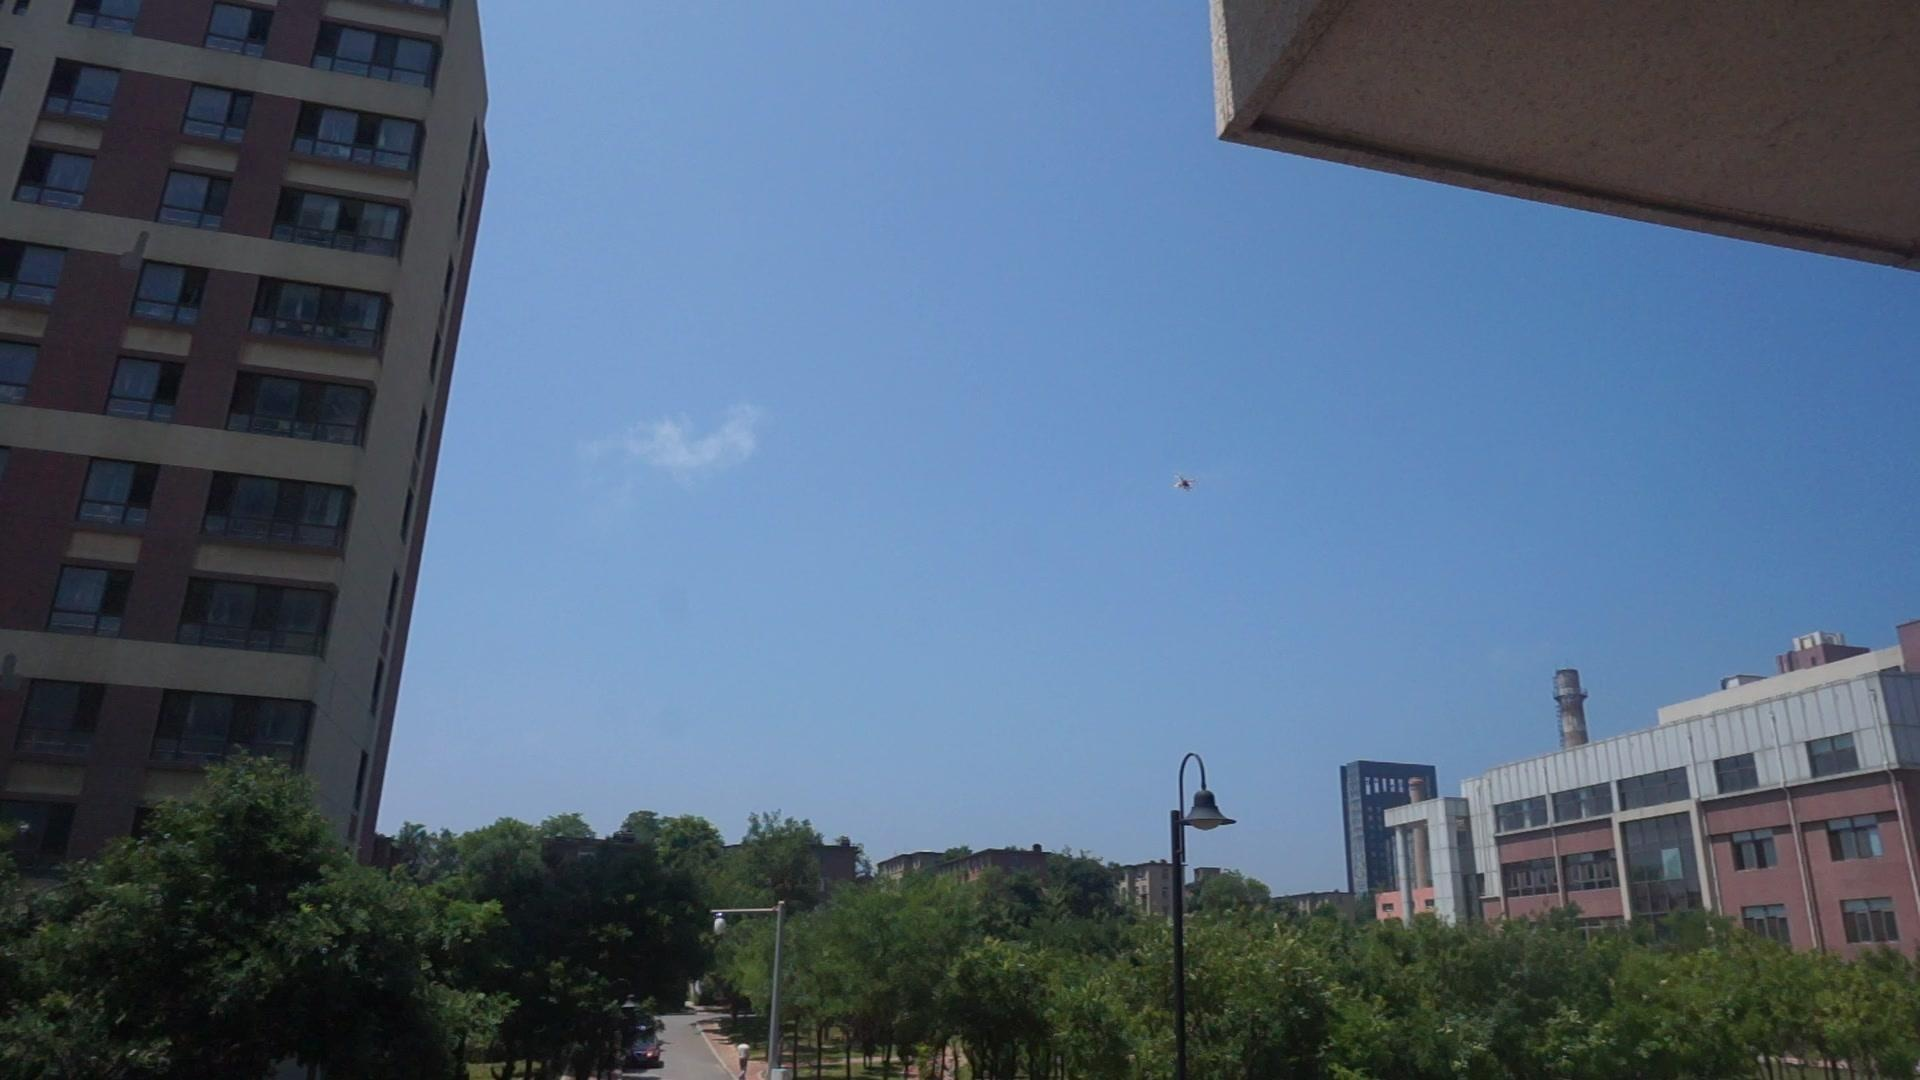UAV: (1174, 472, 1197, 493)
